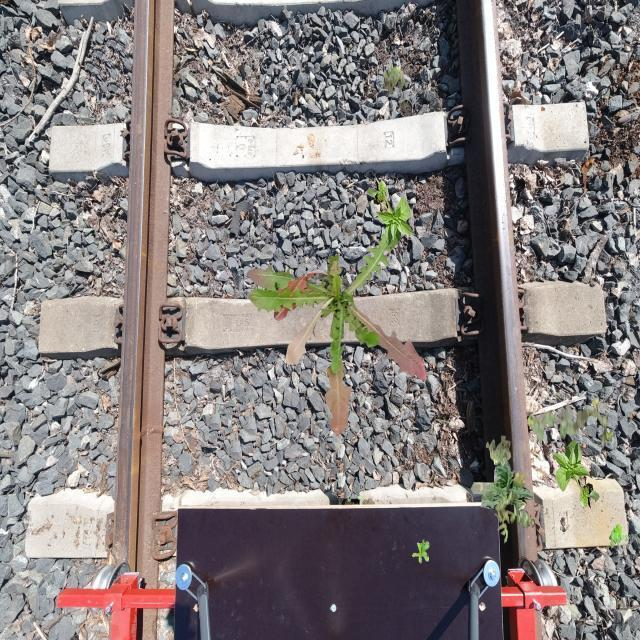Plant: (247, 229, 427, 438), (527, 397, 614, 448), (470, 448, 534, 510), (552, 439, 600, 510), (367, 178, 415, 249), (494, 490, 536, 544), (383, 63, 409, 95), (486, 435, 512, 467), (609, 524, 630, 549), (412, 540, 430, 564)
